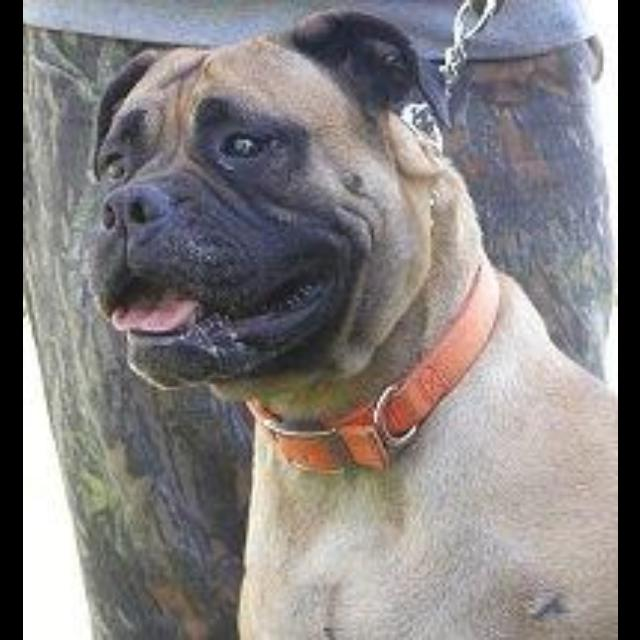bullmastiff: (77, 4, 615, 638)
